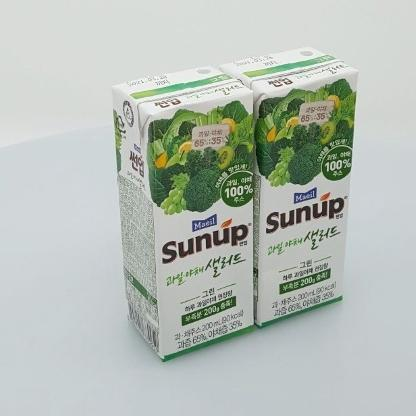-------------200ML: (111, 65, 255, 361), (219, 45, 359, 328)
